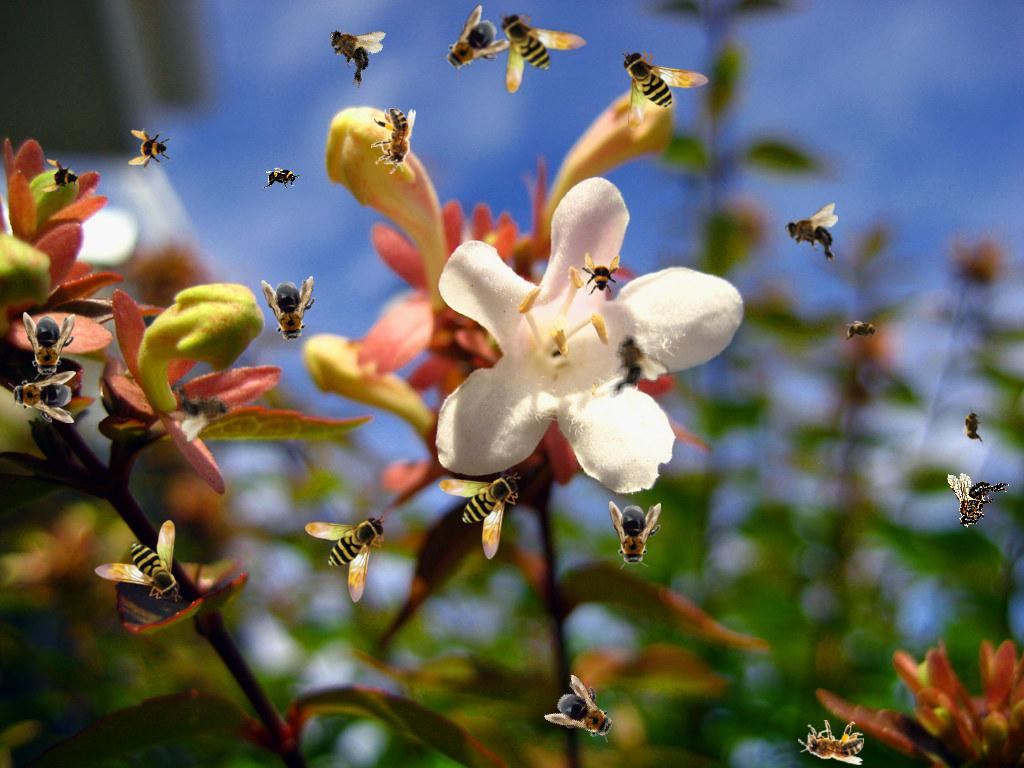Bee: (430, 3, 516, 89), (94, 520, 182, 602), (499, 11, 587, 93), (621, 49, 709, 131), (439, 472, 521, 560), (305, 515, 387, 603), (543, 673, 629, 753), (314, 11, 389, 91), (592, 326, 671, 400), (169, 371, 236, 445), (261, 274, 321, 348), (941, 471, 1010, 533), (23, 312, 75, 380), (609, 501, 661, 569), (8, 371, 76, 423), (785, 203, 838, 265), (798, 720, 864, 765), (371, 108, 416, 174), (38, 155, 86, 203), (128, 128, 172, 172), (578, 252, 622, 296), (842, 320, 882, 342), (262, 167, 302, 189), (962, 406, 984, 446)
